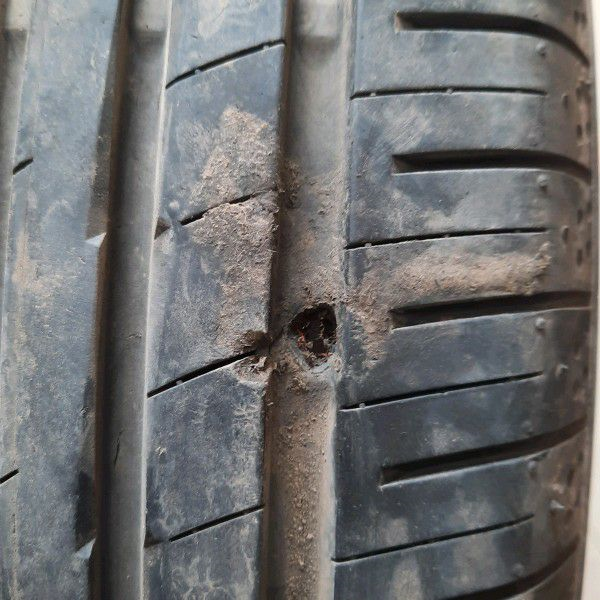tr: (229, 294, 351, 392)
